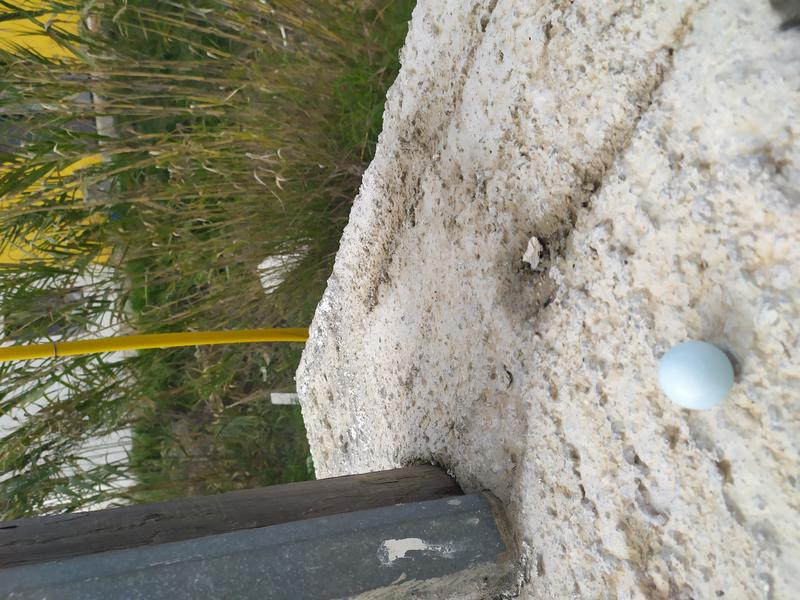Warning: (655, 337, 737, 412)
